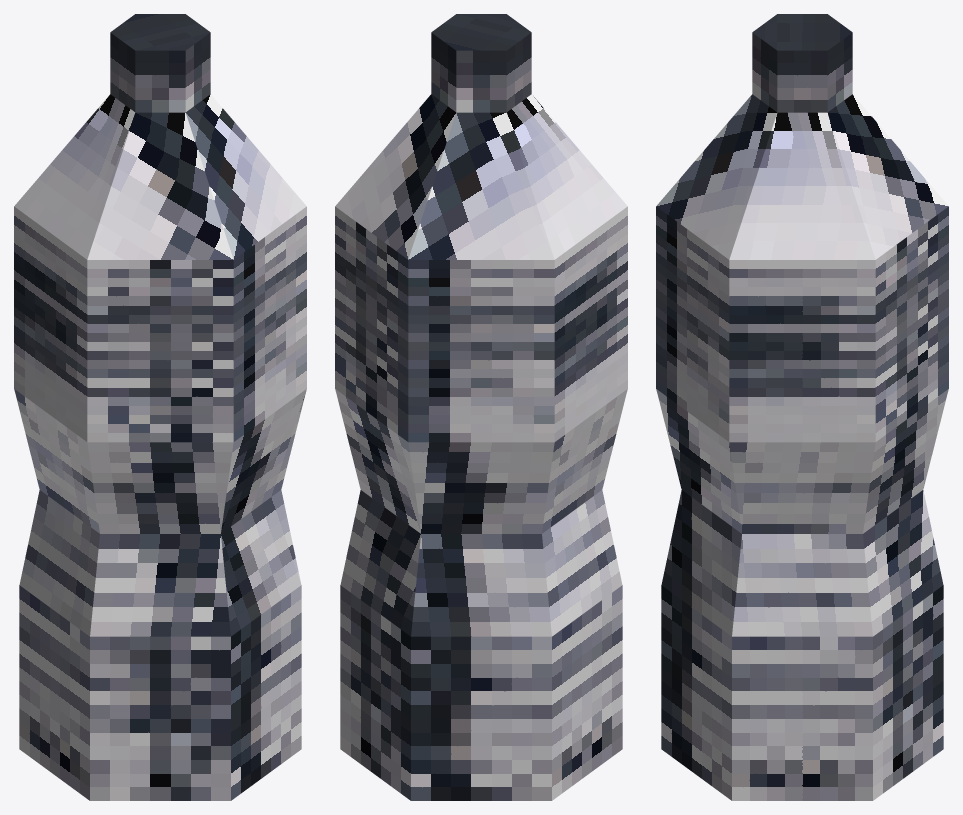
Rendered from Bottle01.obj.
The picture shows the model from 3 angles, left to right: view 1: azimuth 30°, elevation 25°; view 2: azimuth 150°, elevation 25°; view 3: azimuth 270°, elevation 25°; orthographic projection.
Parts seen in each view (by area): view 1: Bottle01; view 2: Bottle01; view 3: Bottle01.
Part boxes in pixels (x1,y1,x2,y2): Bottle01: (14,14,306,800); Bottle01: (335,14,627,800); Bottle01: (656,14,948,800).
Size of the model in its own units: 0.1296 by 0.4044 by 0.1496.
